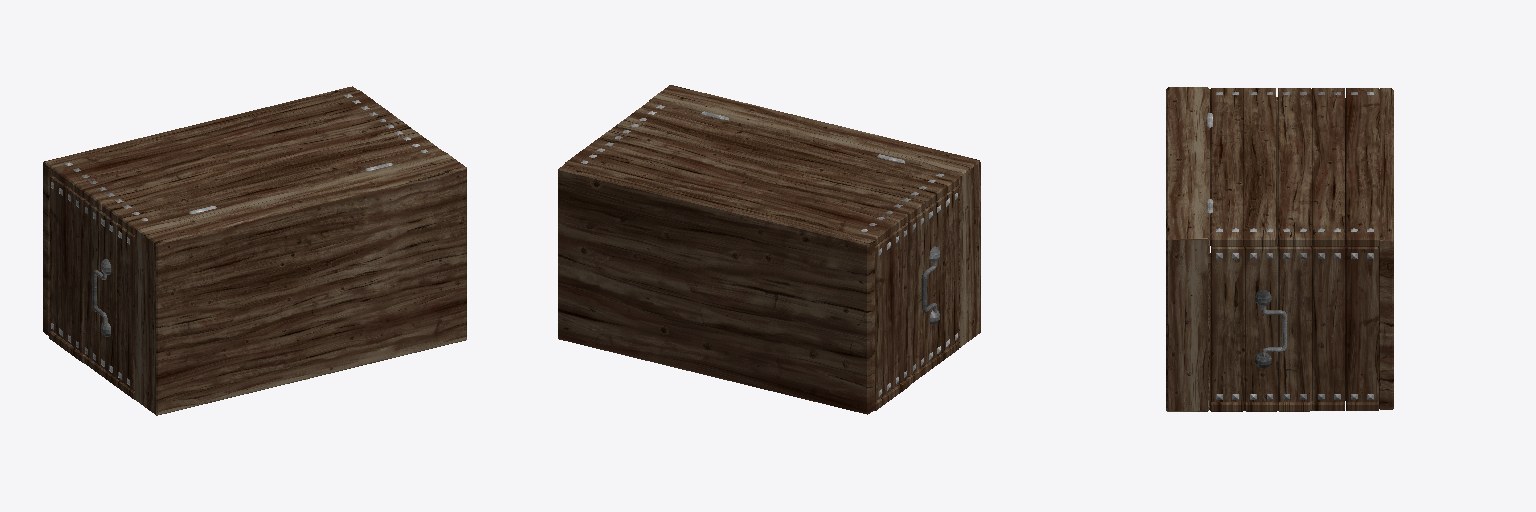
3 views of the same model, side by side, from view 1: azimuth 30°, elevation 25°; view 2: azimuth 150°, elevation 25°; view 3: azimuth 270°, elevation 25° (orthographic).
Visible parts, largest first — view 1: CHESTSandTRUNKS; view 2: CHESTSandTRUNKS; view 3: CHESTSandTRUNKS.
Boxes of the visible parts, box(x1,y1,x2,y2) form: CHESTSandTRUNKS: box(43, 86, 466, 415); CHESTSandTRUNKS: box(558, 85, 980, 414); CHESTSandTRUNKS: box(1166, 87, 1393, 411).
Bounding box in the file's own units: 4.63 × 2.58 × 2.8.
2 materials, 2 textured.